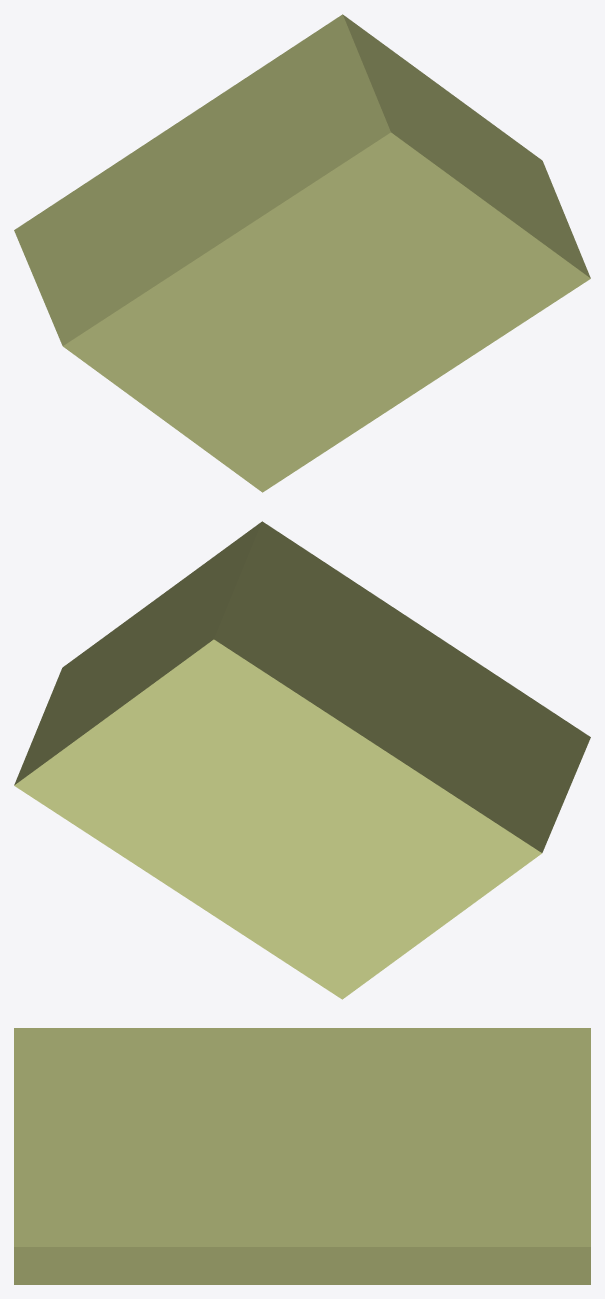
The picture shows the model from 3 angles, top to bottom: view 1: azimuth 30°, elevation 25°; view 2: azimuth 150°, elevation 25°; view 3: azimuth 270°, elevation 25°; orthographic projection. The views are drawn at different scales.
Visible parts, largest first — view 1: 0_1_1_3_2_2_0_3_2_2_3_2; view 2: 0_1_1_3_2_2_0_3_2_2_3_2; view 3: 0_1_1_3_2_2_0_3_2_2_3_2.
Boxes of the visible parts, x1=… form: 0_1_1_3_2_2_0_3_2_2_3_2: x1=14, y1=14, x2=590, y2=492; 0_1_1_3_2_2_0_3_2_2_3_2: x1=14, y1=521, x2=590, y2=999; 0_1_1_3_2_2_0_3_2_2_3_2: x1=14, y1=1028, x2=590, y2=1284.
Bounding box in the file's own units: 6.53 × 4.37 × 6.
